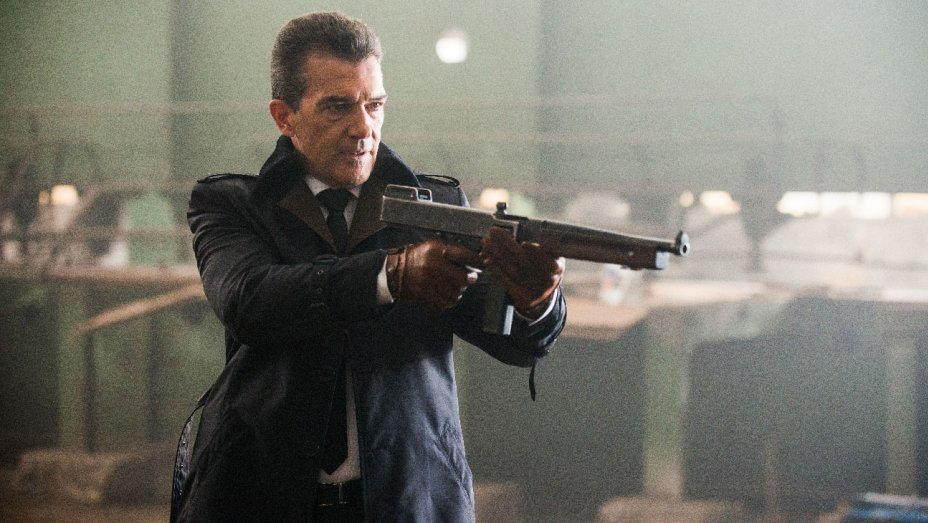gun: (373, 178, 692, 340)
